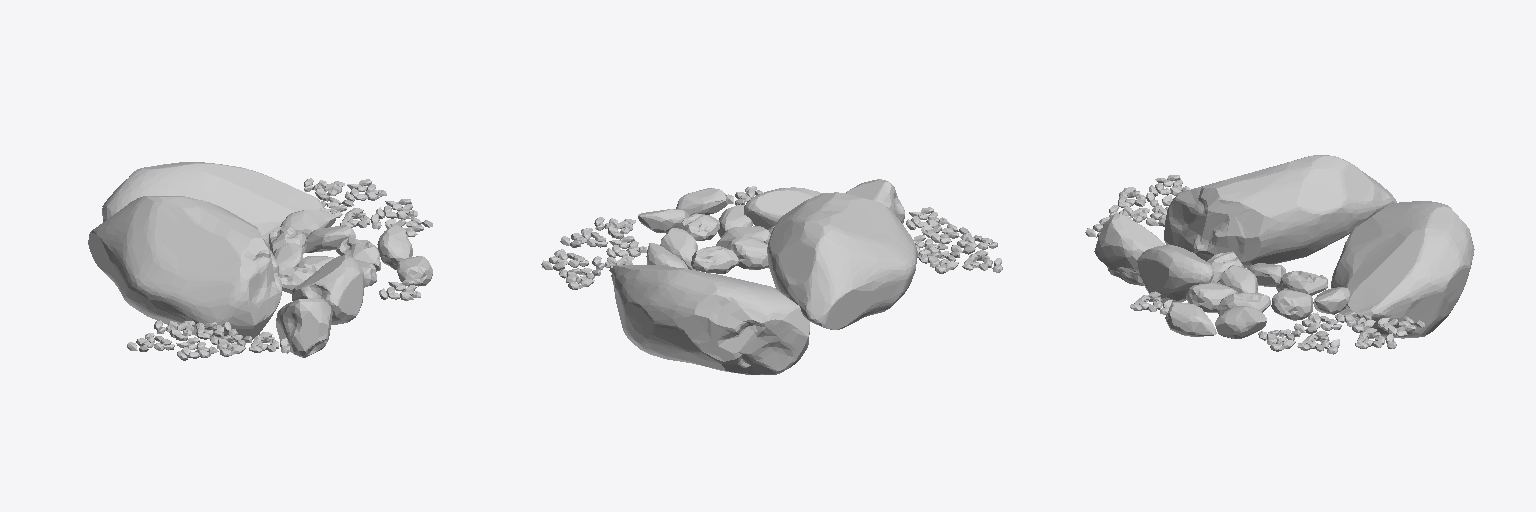
The model's file is Rock_Pile_1_LP.obj.
The picture shows the model from 3 angles: view 1: azimuth 30°, elevation 25°; view 2: azimuth 150°, elevation 25°; view 3: azimuth 270°, elevation 25°; orthographic projection.
Parts seen in each view (by area): view 1: Rock_Pile_1_LP1:Group45937; view 2: Rock_Pile_1_LP1:Group45937; view 3: Rock_Pile_1_LP1:Group45937.
Boxes of the visible parts, x1=… form: Rock_Pile_1_LP1:Group45937: x1=88, y1=162, x2=432, y2=360; Rock_Pile_1_LP1:Group45937: x1=541, y1=179, x2=1002, y2=374; Rock_Pile_1_LP1:Group45937: x1=1085, y1=155, x2=1474, y2=354.
Size of the model in its own units: 6.5 by 2.14 by 6.05.